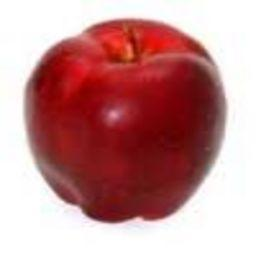apple: (22, 19, 226, 222)
